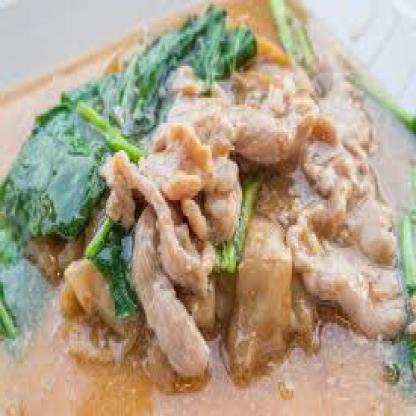Laadna: (1, 9, 415, 415)
